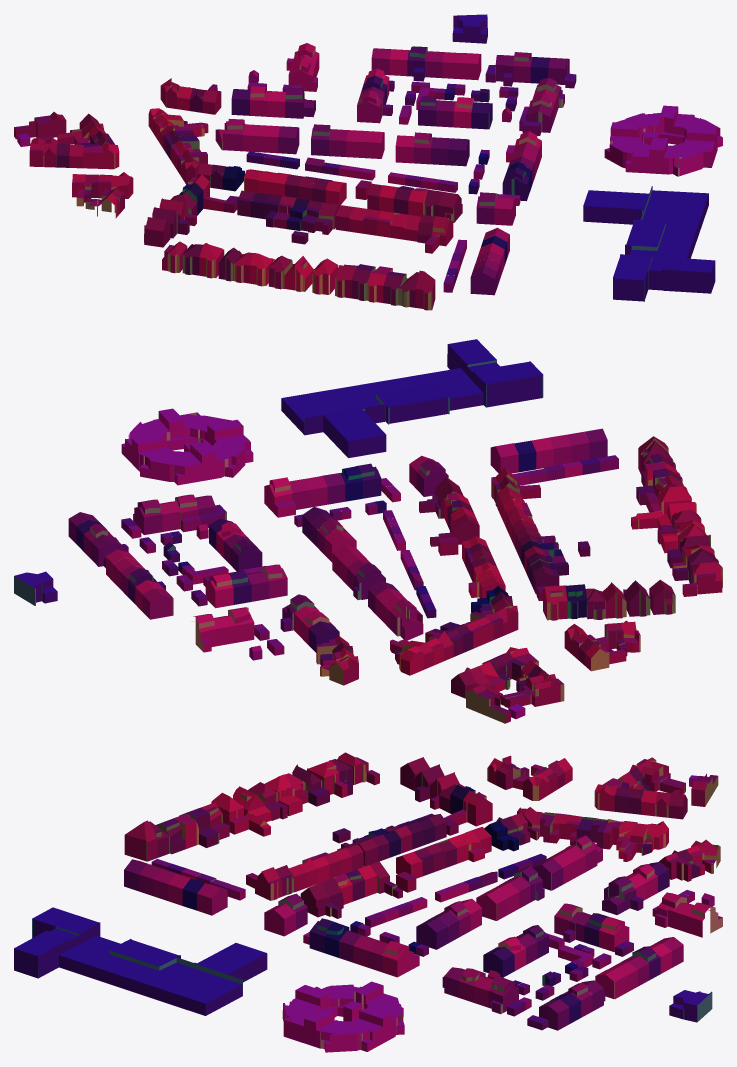
File: buildings_12_9.glb
3 renders of one model, top to bottom at view 1: azimuth 30°, elevation 25°; view 2: azimuth 150°, elevation 25°; view 3: azimuth 270°, elevation 25°, orthographic. The views are drawn at different scales.
Visible parts, largest first — view 1: buildings_12_9; view 2: buildings_12_9; view 3: buildings_12_9.
Part boxes in pixels (x1,y1,x2,y2): buildings_12_9: (14, 14, 722, 310); buildings_12_9: (14, 339, 722, 723); buildings_12_9: (14, 752, 722, 1052).
Size of the model in its own units: 213 by 11.87 by 228.
